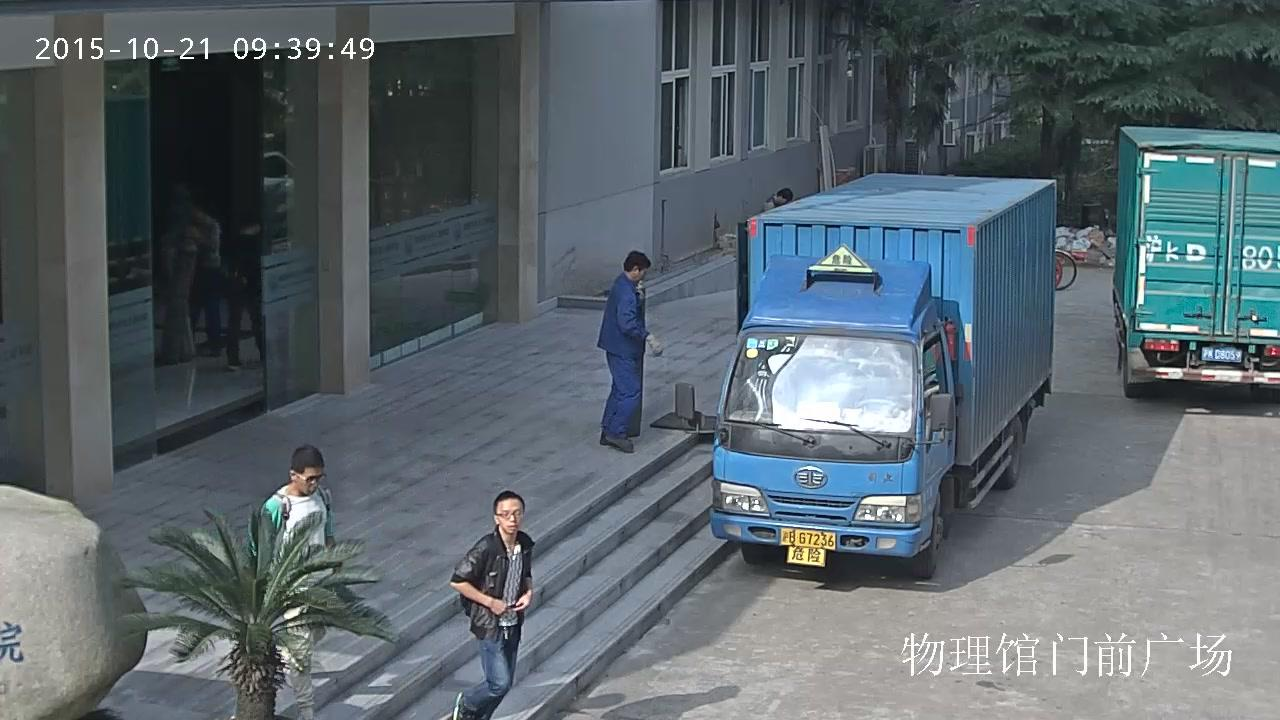person: (261, 444, 335, 720), (449, 490, 532, 720), (595, 250, 662, 452), (154, 181, 196, 365), (225, 212, 267, 372), (194, 204, 222, 355), (763, 188, 792, 210)
